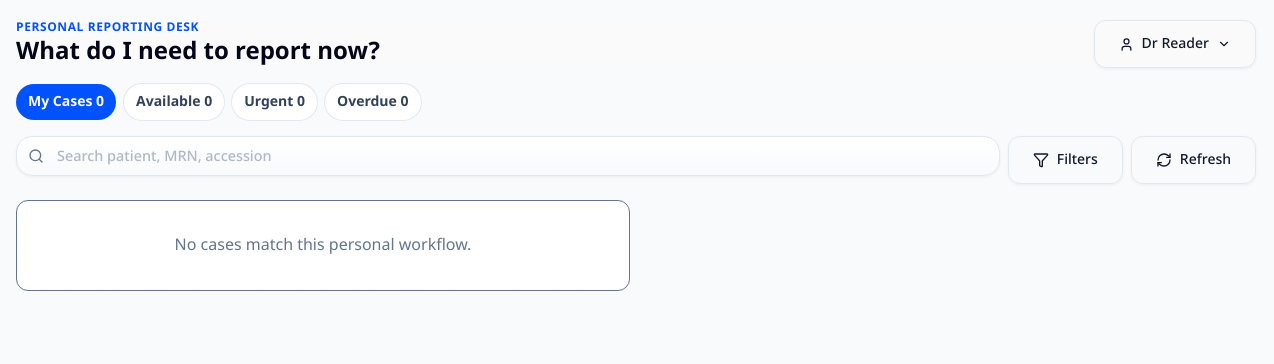
Test case: Personal Reporting Desk authentication and current-device notifications › requests default permission once and subscribes a new browser subscription
Expected: the text "Personal Reporting Desk" is shown, top-left (16, 15), bottom-right (199, 40)
Click the button "Dr Reader" at (1175, 44), box top-left (1094, 20), bottom-right (1256, 68)
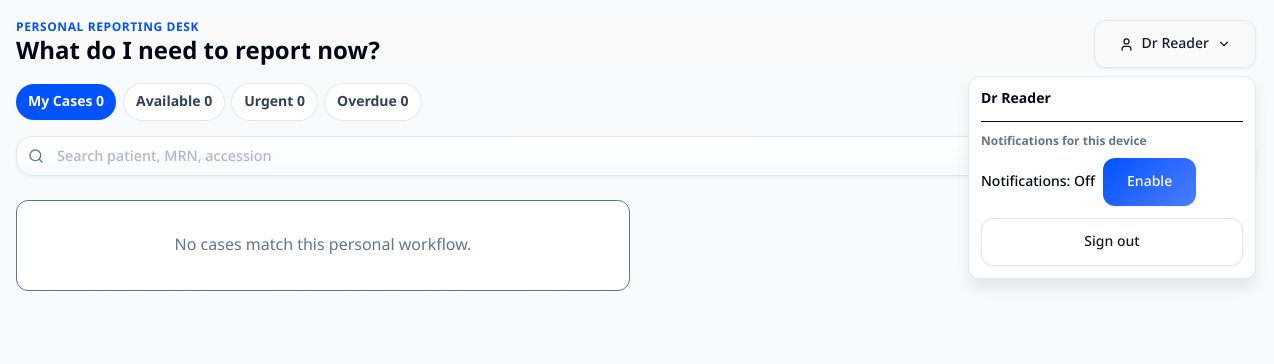
Expected: the text "Notifications: Off" is shown, top-left (981, 172), bottom-right (1095, 192)
Click the button "Enable" at (1150, 182), box top-left (1103, 158), bottom-right (1196, 206)
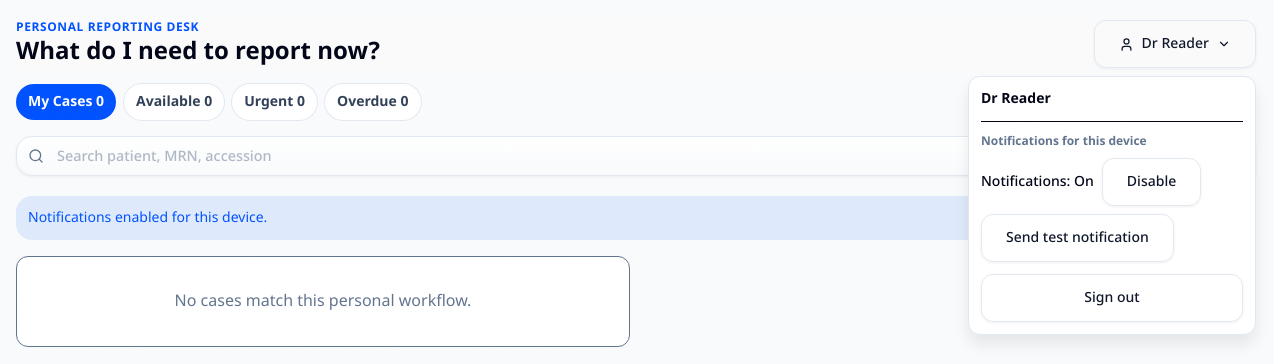
Expected: the text "Notifications enabled for this device." is shown, top-left (16, 196), bottom-right (1256, 240)
Expected: the text "Notifications: On" is shown, top-left (981, 172), bottom-right (1094, 192)
